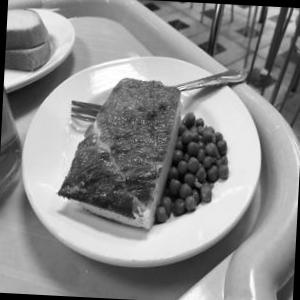casserole: (57, 74, 236, 240)
